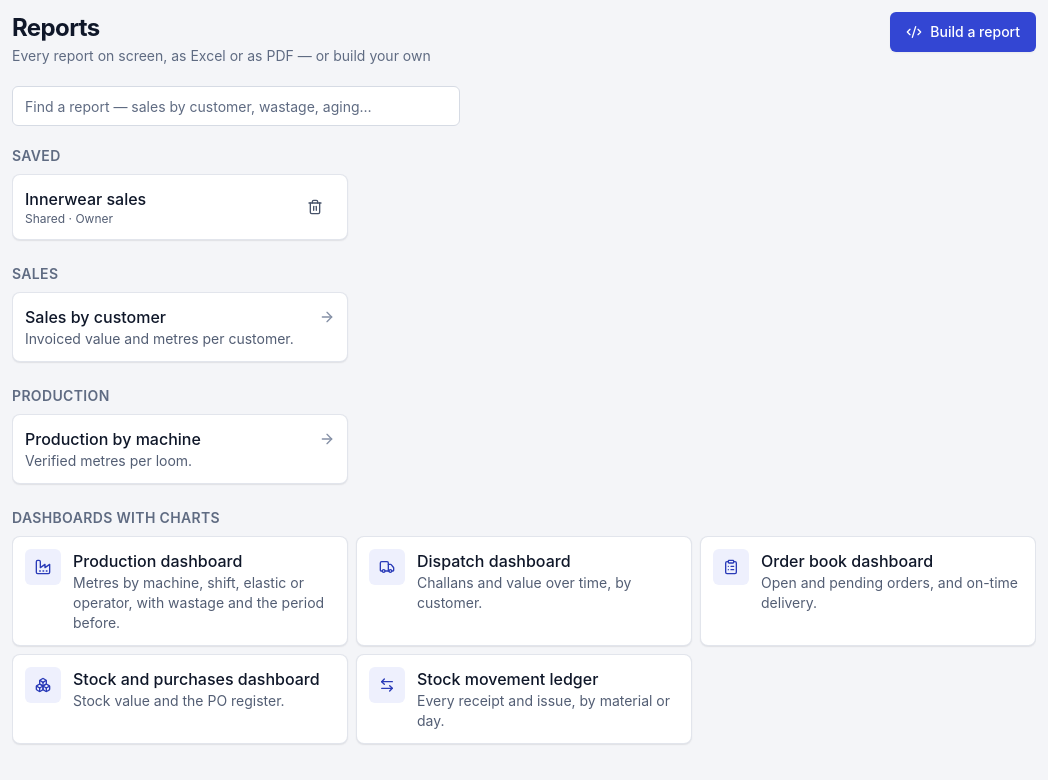
Test: the reports home › lists every report by area, the saved ones, and finds one by name
Expected: the link "Production dashboard" is shown, 12,536 -> 348,646
Type "machine" into the field labelled "Find a report". click: x=236, y=106
box: 12,86 -> 460,126
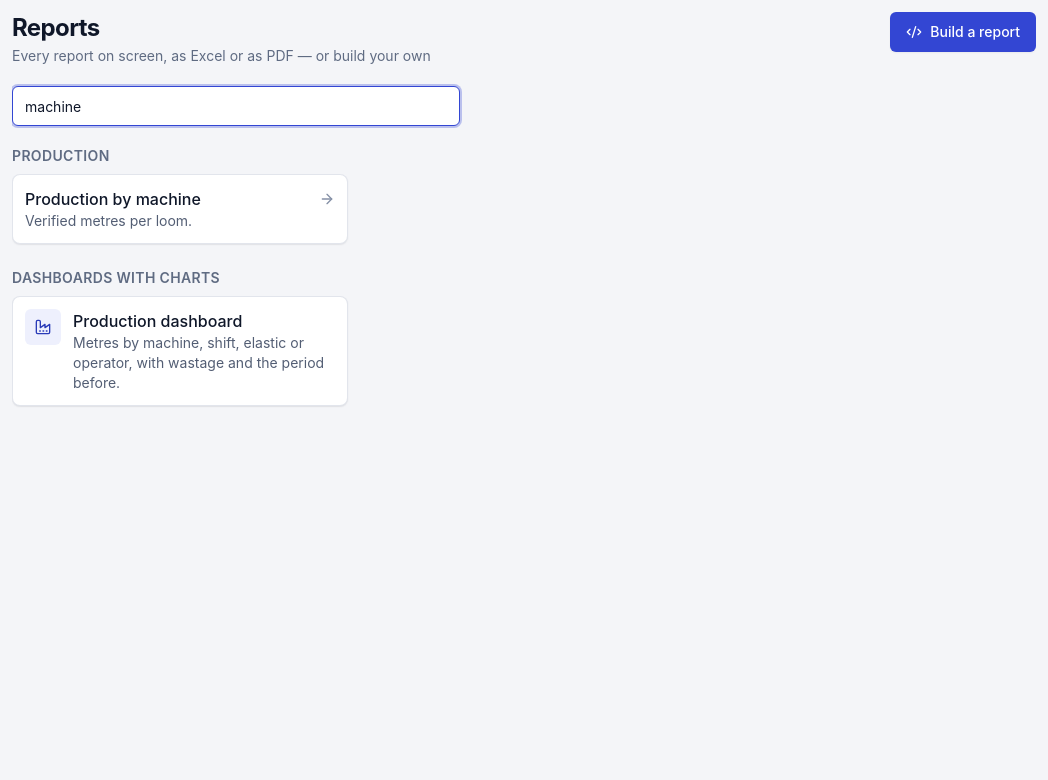
Expected: the link "Production by machine Verified metres per loom." is shown, 12,174 -> 348,244
Now the link "Sales by customer" is gone
